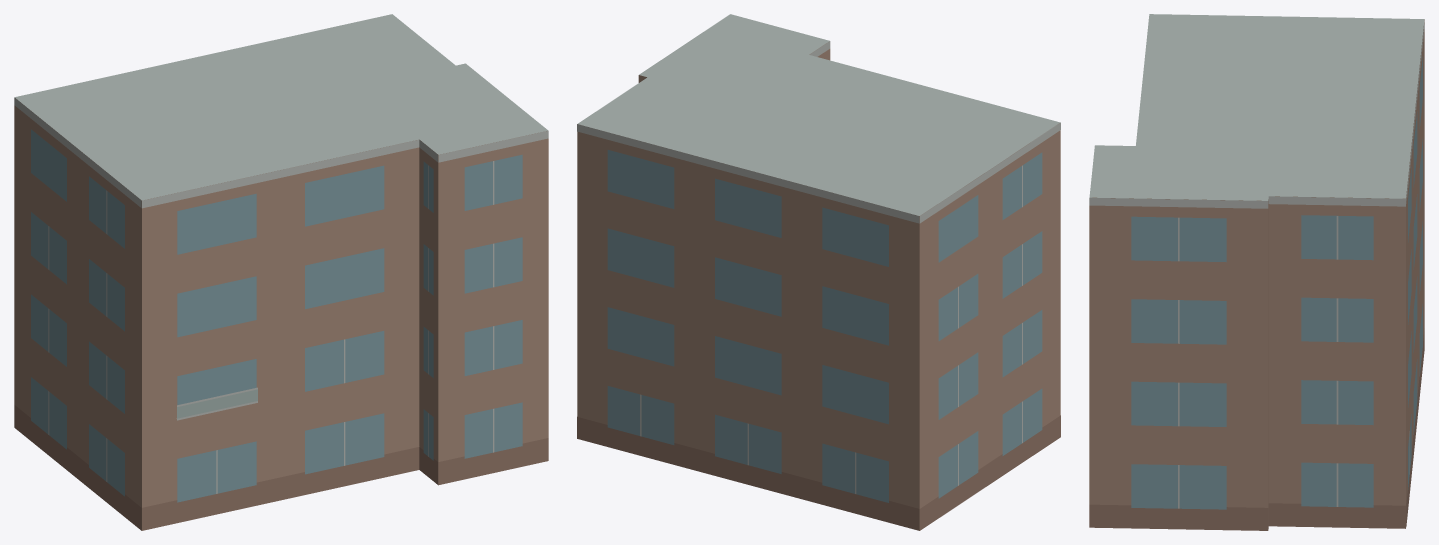
Rendered from survey-upis-32679293.glb.
The picture shows the model from 3 angles, left to right: view 1: azimuth 30°, elevation 25°; view 2: azimuth 150°, elevation 25°; view 3: azimuth 270°, elevation 25°; orthographic projection. The views are drawn at different scales.
Parts seen in each view (by area): view 1: survey-upis-32679293.tmp; view 2: survey-upis-32679293.tmp; view 3: survey-upis-32679293.tmp.
Boxes of the visible parts, left/top/right/bottom form: survey-upis-32679293.tmp: left=14, top=14, right=548, bottom=530; survey-upis-32679293.tmp: left=577, top=14, right=1060, bottom=530; survey-upis-32679293.tmp: left=1089, top=14, right=1424, bottom=530.
Size of the model in its own units: 12.4 by 10.2 by 9.4.
